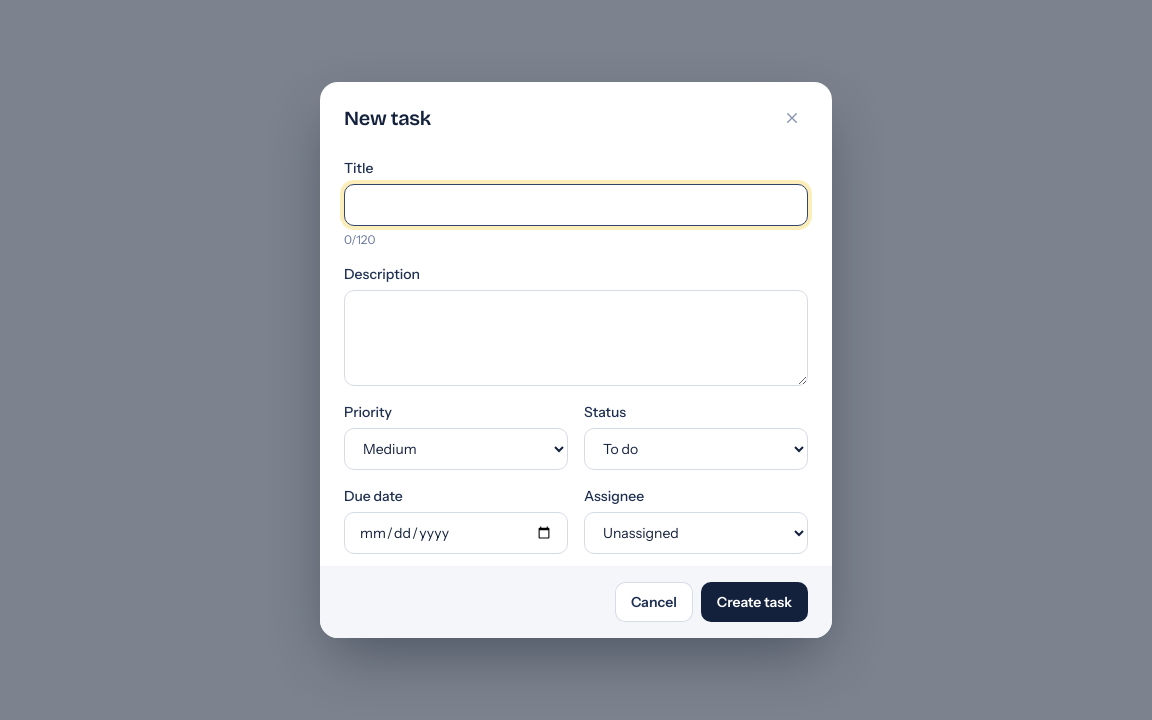
Test: TaskFormModal › requires a title and rejects a past due date on create
Type "2020-01-01" into the date field labelled "Due date" at x=456, y=533, box 344,512 -> 568,554
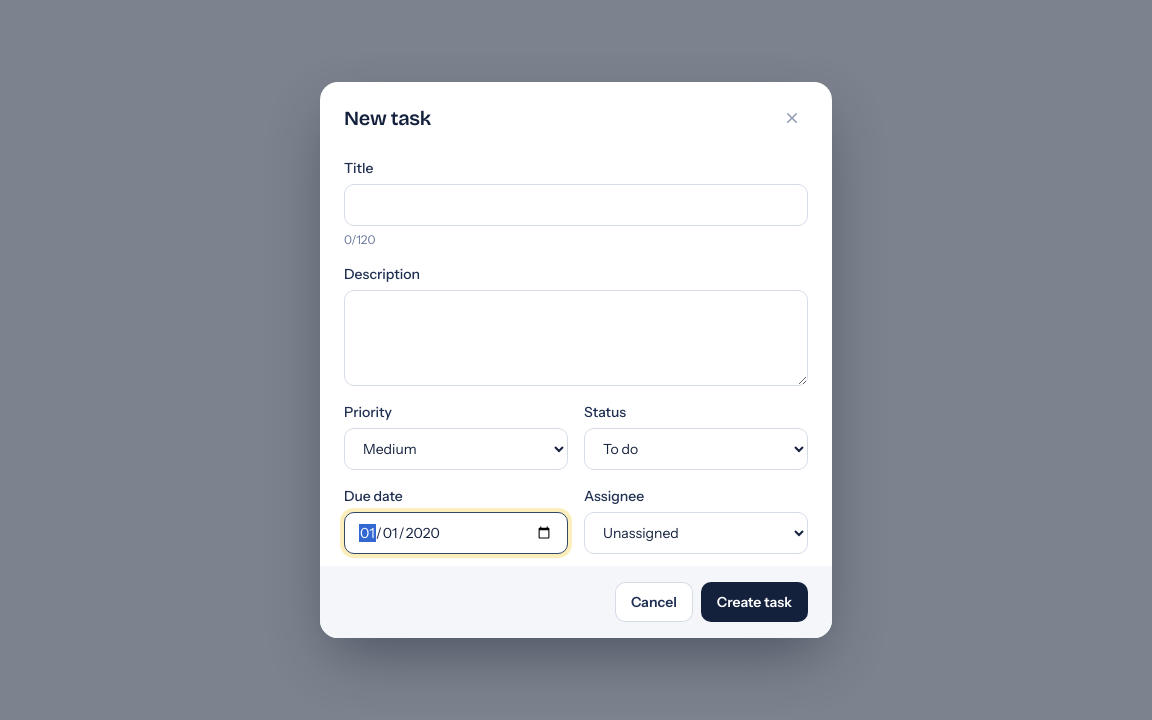
Click the button "Create task" at x=754, y=602, box 701,582 -> 808,622
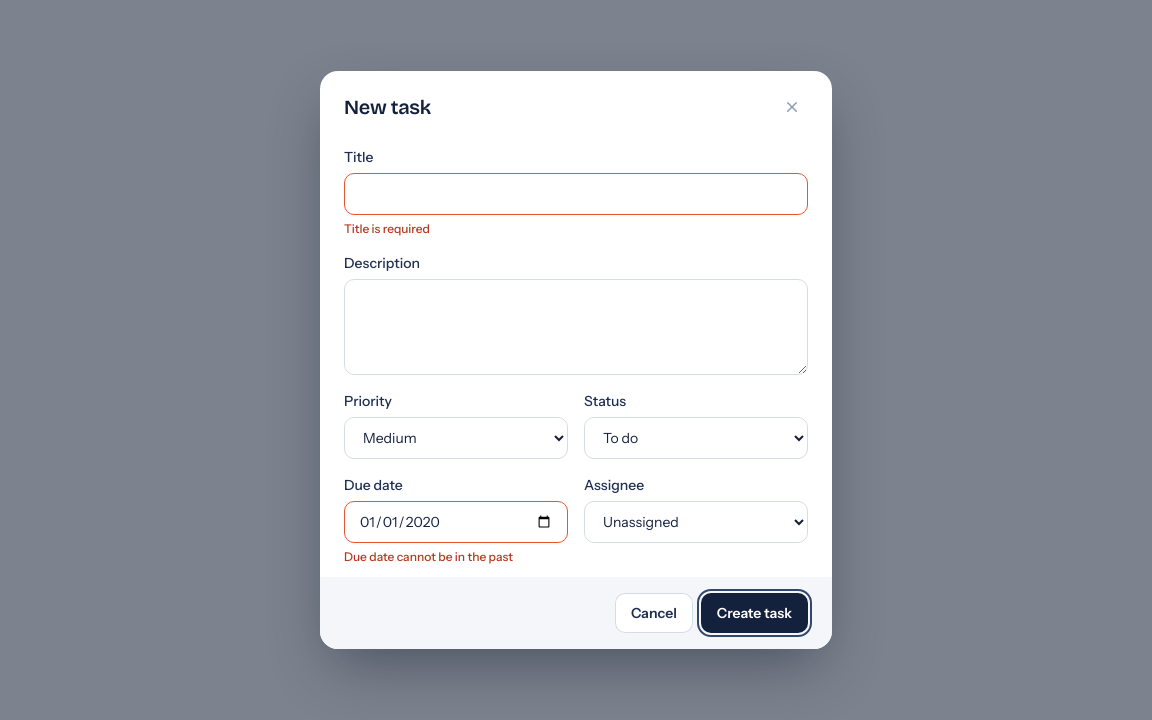
Expected: the text "Title is required" is shown, 344,221 -> 430,236
Expected: the text "Due date cannot be in the past" is shown, 344,549 -> 513,564
